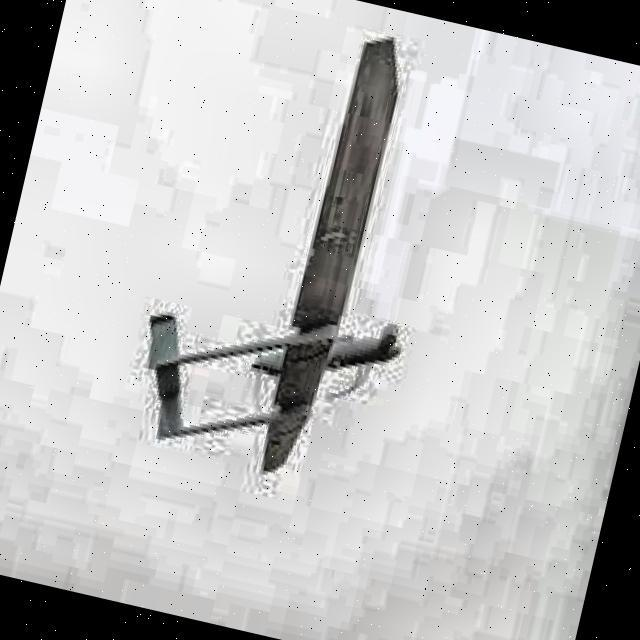iha: (112, 0, 484, 504)
